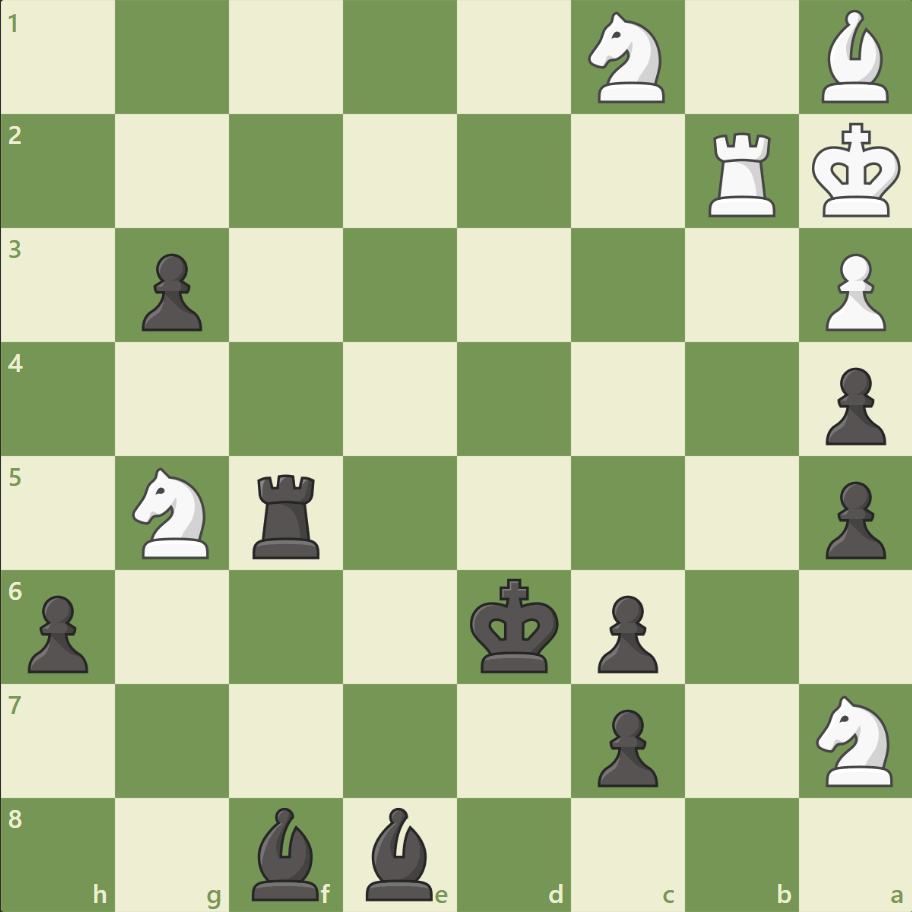B: (812, 6, 896, 109)
K: (806, 117, 906, 225)
N: (124, 461, 222, 564), (806, 688, 903, 791), (579, 7, 676, 110)
P: (815, 246, 889, 337)
R: (700, 125, 783, 222)
b: (358, 801, 442, 904), (244, 801, 328, 904)
k: (465, 571, 565, 679)
p: (20, 586, 95, 677), (133, 246, 208, 337), (588, 700, 662, 791), (588, 586, 662, 677), (815, 473, 889, 564), (815, 359, 889, 450)
r: (246, 466, 329, 563)
